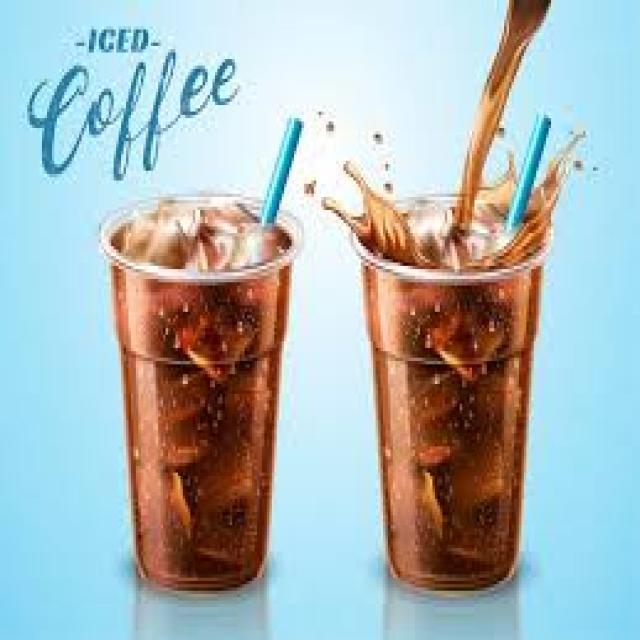bottle: (100, 196, 301, 589), (354, 239, 546, 589)
